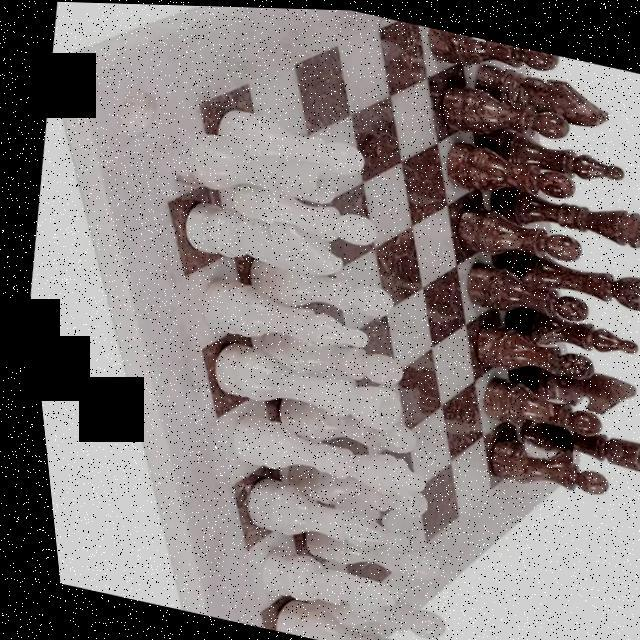chess-table-corners: (104, 88, 202, 180), (505, 416, 570, 472)
